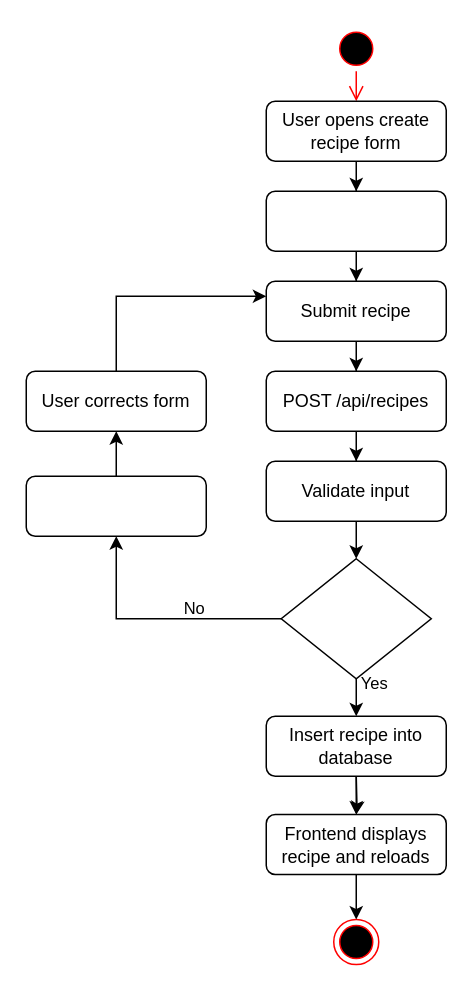
Image size: 473x992. Some labels were removed from this diagram. Here are the shapes that lost their labels. From the top down, the centre of each, then its label:
the point at 355,220: Fills out recipe form
the point at 115,505: Return error message
the point at 355,618: All fields filled?
